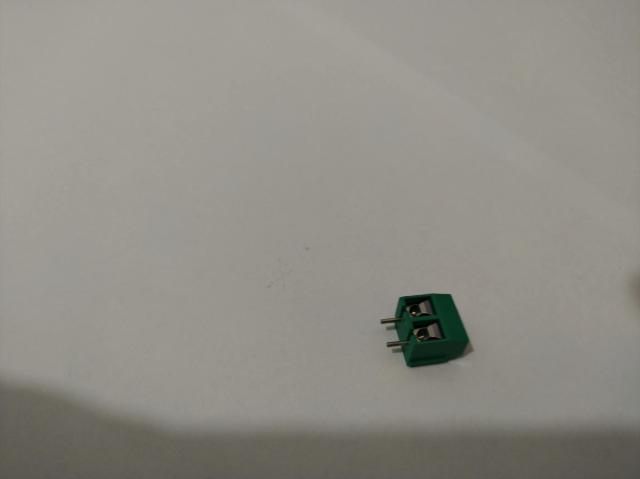terminal_block: (380, 293, 468, 367)
